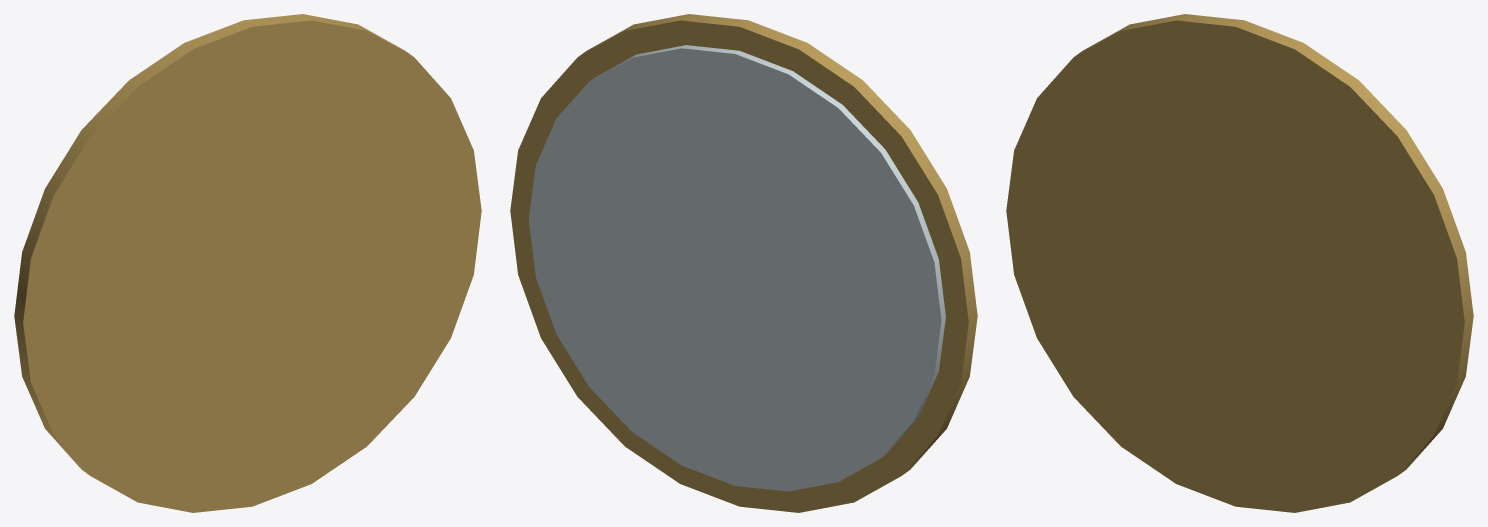
The picture shows the model from 3 angles, left to right: view 1: azimuth 30°, elevation 25°; view 2: azimuth 150°, elevation 25°; view 3: azimuth 330°, elevation 25°; orthographic projection.
Visible parts, largest first — view 1: frame; view 2: glass, frame; view 3: frame.
Boxes of the visible parts, left/top/right/bottom form: frame: left=14, top=14, right=481, bottom=512; glass: left=528, top=45, right=945, bottom=491; frame: left=510, top=14, right=977, bottom=512; frame: left=1006, top=14, right=1473, bottom=512.
Bounding box in the file's own units: 0.6 × 0.6 × 0.03.
